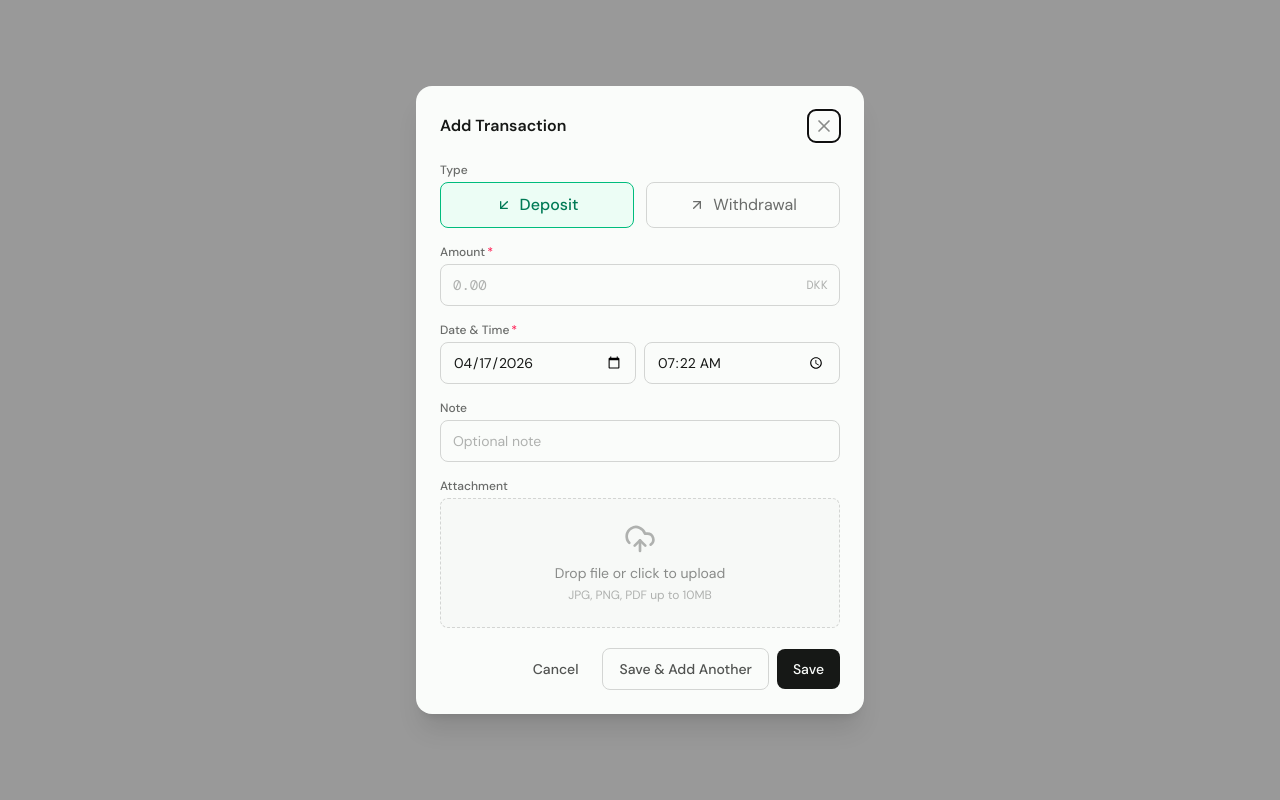
Test: TransactionDialog › Validation › shows error when amount is negative
In the number field with placeholder "0.00": (640, 285) 440,264 -> 840,306, type "-5"
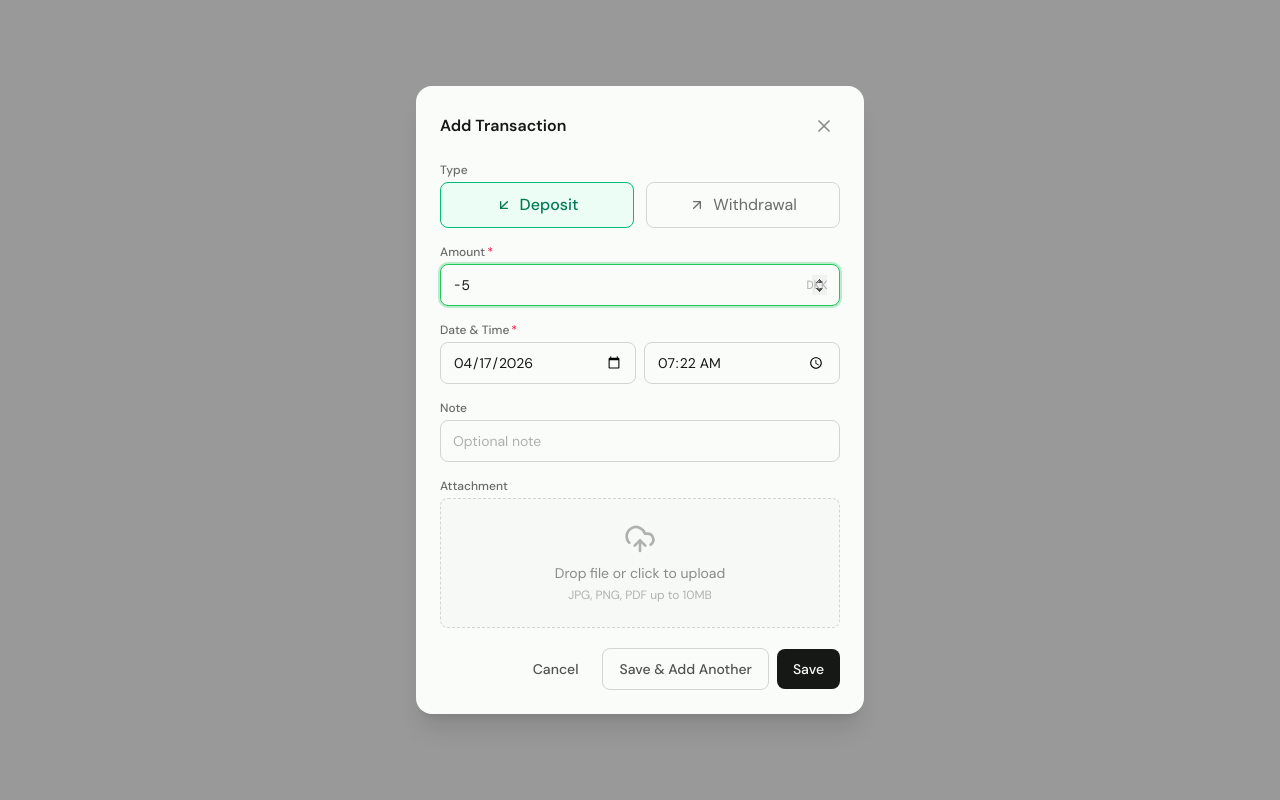
Click the button "Save": (808, 669) 777,649 -> 840,689
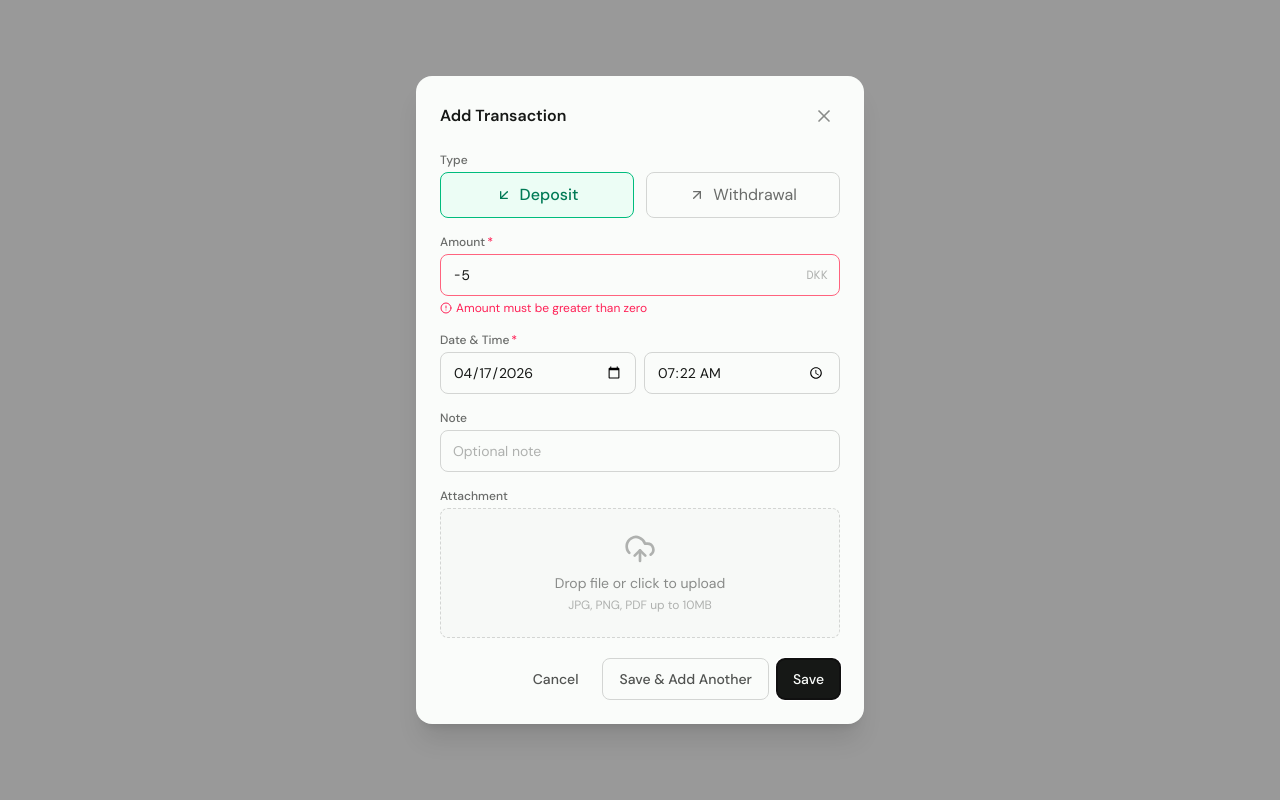
expect the text "Amount must be greater than zero" is shown: met, box 440,300 -> 647,316
